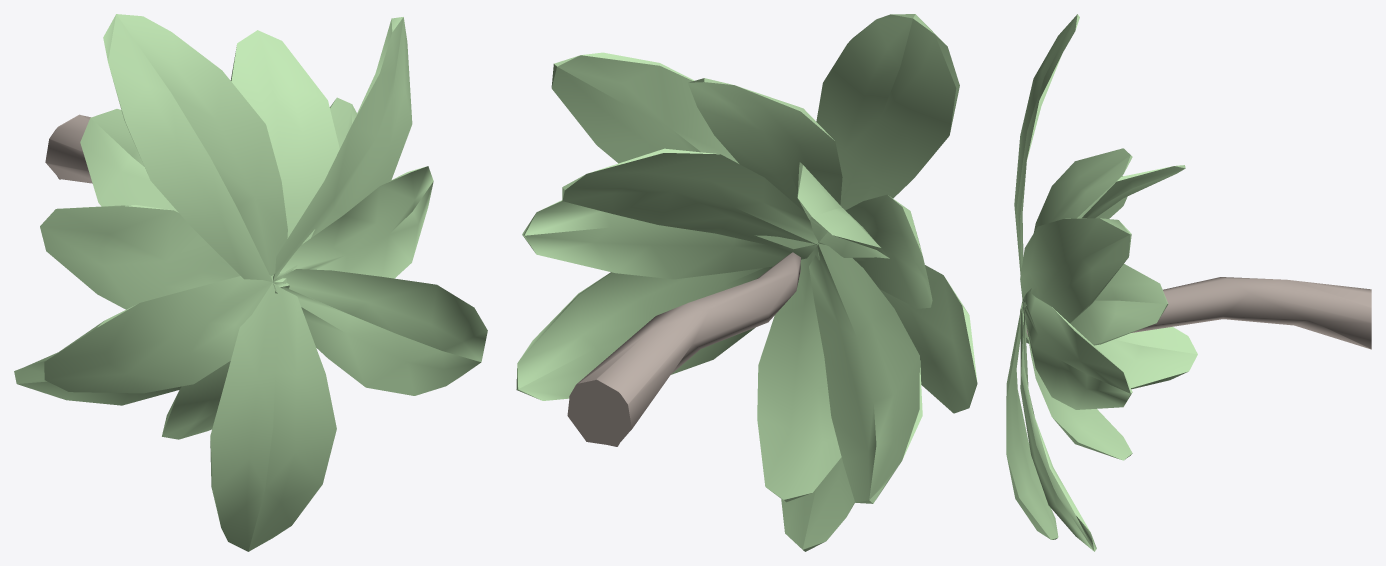
File: tree_palm.glb
The picture shows the model from 3 angles, left to right: view 1: azimuth 30°, elevation 25°; view 2: azimuth 150°, elevation 25°; view 3: azimuth 270°, elevation 25°; orthographic projection. The views are drawn at different scales.
Visible parts, largest first — view 1: Object_3.001, Object_2.001; view 2: Object_3.001, Object_2.001; view 3: Object_3.001, Object_2.001.
Part boxes in pixels (x1=…): Object_3.001: x1=14, y1=14, x2=487, y2=551; Object_2.001: x1=45, y1=114, x2=92, y2=183; Object_3.001: x1=516, y1=14, x2=977, y2=551; Object_2.001: x1=567, y1=252, x2=800, y2=446; Object_3.001: x1=1006, y1=14, x2=1197, y2=551; Object_2.001: x1=1026, y1=277, x2=1371, y2=349.
Size of the model in its own units: 6.71 by 8.08 by 5.62.
